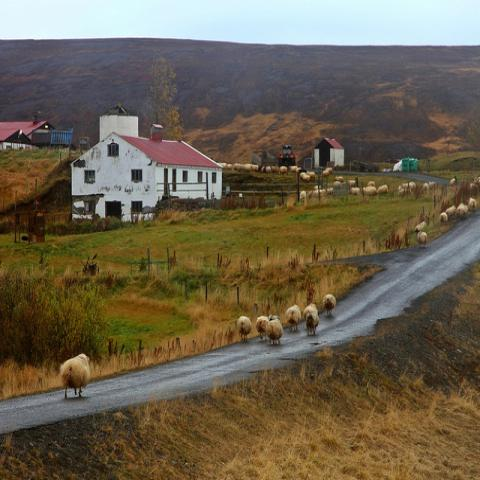truck: (278, 144, 296, 166)
